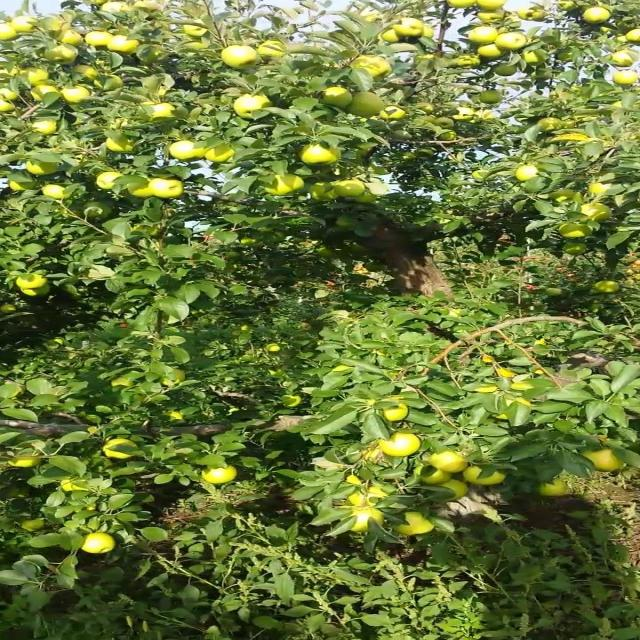apple: (378, 432, 420, 456), (347, 91, 384, 118), (396, 511, 436, 535), (351, 55, 391, 78), (233, 94, 271, 118), (582, 449, 622, 471), (222, 45, 260, 68), (462, 466, 507, 485), (264, 174, 304, 195), (349, 486, 389, 507), (429, 451, 467, 472), (351, 508, 384, 532), (300, 144, 338, 164), (102, 438, 138, 459), (82, 532, 116, 554), (320, 86, 353, 108), (169, 140, 204, 160), (149, 179, 184, 199), (42, 45, 78, 64), (107, 35, 140, 54), (391, 18, 424, 37), (420, 465, 451, 485), (202, 466, 238, 483), (124, 177, 154, 197), (496, 32, 529, 50), (580, 202, 611, 221), (204, 144, 236, 162), (333, 180, 364, 198), (467, 26, 498, 44), (309, 181, 338, 200), (442, 479, 469, 499), (24, 160, 58, 175), (380, 403, 408, 421), (84, 201, 112, 219), (60, 86, 91, 102), (558, 222, 591, 237), (20, 68, 49, 85), (582, 6, 611, 23), (538, 479, 567, 496), (611, 50, 638, 68), (16, 274, 47, 289), (257, 40, 286, 56), (59, 476, 88, 492), (548, 189, 580, 203), (96, 171, 122, 188), (611, 70, 640, 85), (84, 31, 113, 46), (147, 102, 174, 118), (31, 85, 58, 101), (9, 16, 35, 32), (104, 138, 133, 152), (31, 120, 58, 135), (520, 49, 545, 65), (9, 455, 42, 467), (516, 7, 546, 20), (478, 44, 504, 59), (58, 30, 82, 46), (477, 9, 504, 23), (453, 54, 480, 68), (378, 105, 405, 119), (182, 24, 209, 38), (97, 75, 122, 90), (162, 369, 184, 386), (20, 284, 50, 296), (516, 165, 538, 181), (20, 519, 47, 532), (378, 28, 402, 42), (537, 117, 561, 131), (478, 90, 502, 104), (75, 65, 97, 80), (343, 473, 365, 488), (42, 184, 64, 199), (592, 280, 619, 292), (8, 178, 35, 190), (132, 0, 159, 12), (100, 0, 127, 12), (554, 133, 586, 143), (561, 242, 587, 254), (452, 106, 474, 120), (476, 0, 506, 10), (493, 64, 518, 76), (353, 190, 376, 203), (46, 17, 65, 31), (110, 377, 134, 388), (2, 24, 18, 40), (281, 394, 302, 406), (587, 182, 608, 194), (447, 0, 476, 8), (415, 102, 434, 114), (623, 28, 639, 42), (185, 40, 206, 50), (544, 286, 565, 296), (436, 130, 457, 140), (358, 12, 378, 22), (556, 50, 574, 61), (2, 89, 18, 101), (556, 0, 575, 10), (433, 117, 452, 127), (165, 409, 184, 419), (415, 147, 434, 157), (470, 170, 488, 180), (0, 100, 15, 112), (2, 66, 20, 76), (419, 26, 433, 38), (1, 303, 17, 313), (238, 236, 254, 245), (264, 343, 280, 351), (400, 152, 416, 160), (91, 0, 108, 4)
